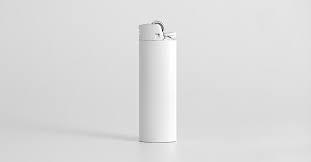lighter: (139, 13, 177, 147)
